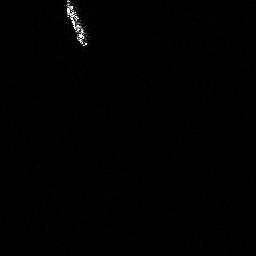ship: (62, 1, 92, 47)
